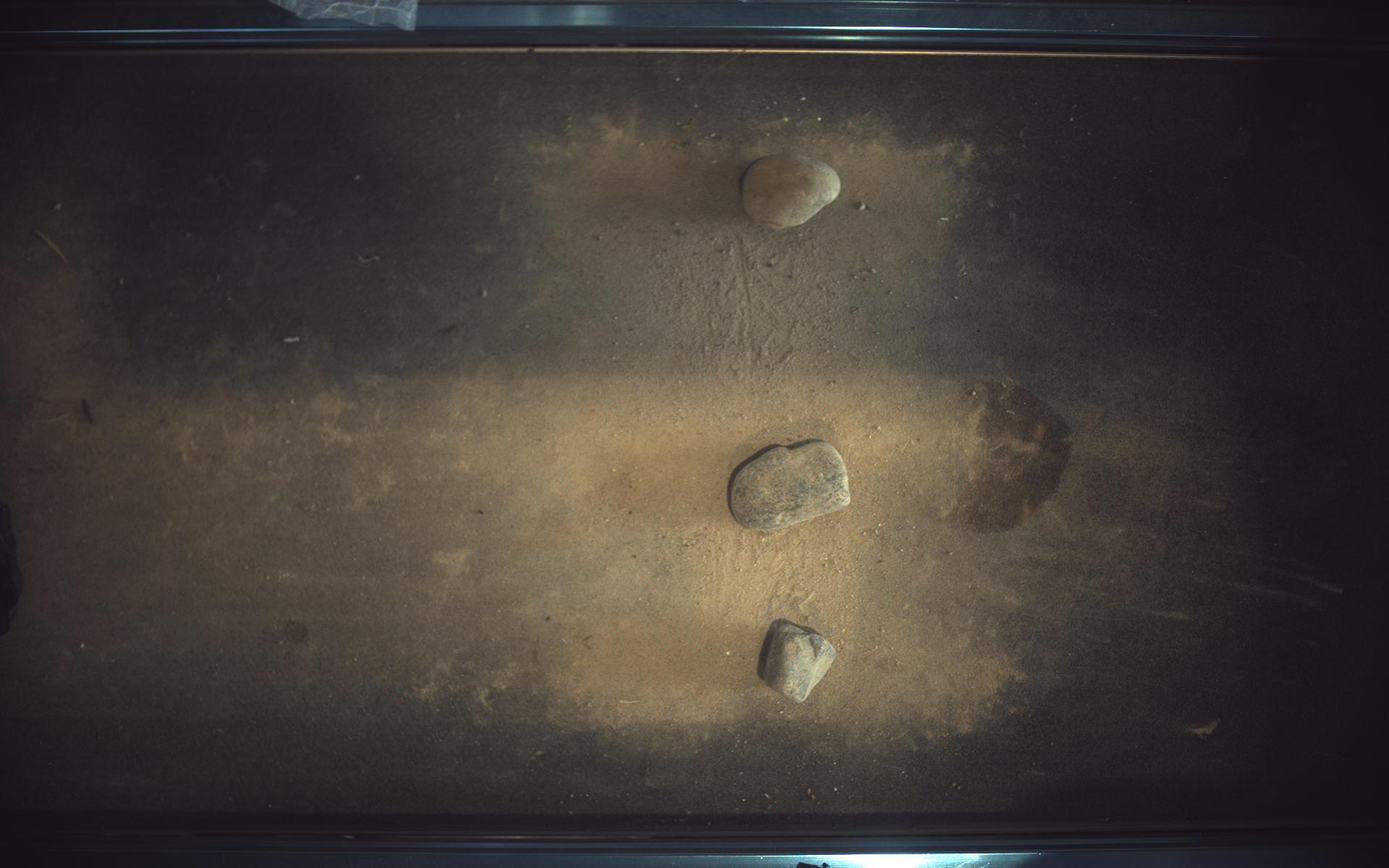stone: (731, 441, 851, 531), (743, 153, 841, 228), (760, 620, 838, 704)
